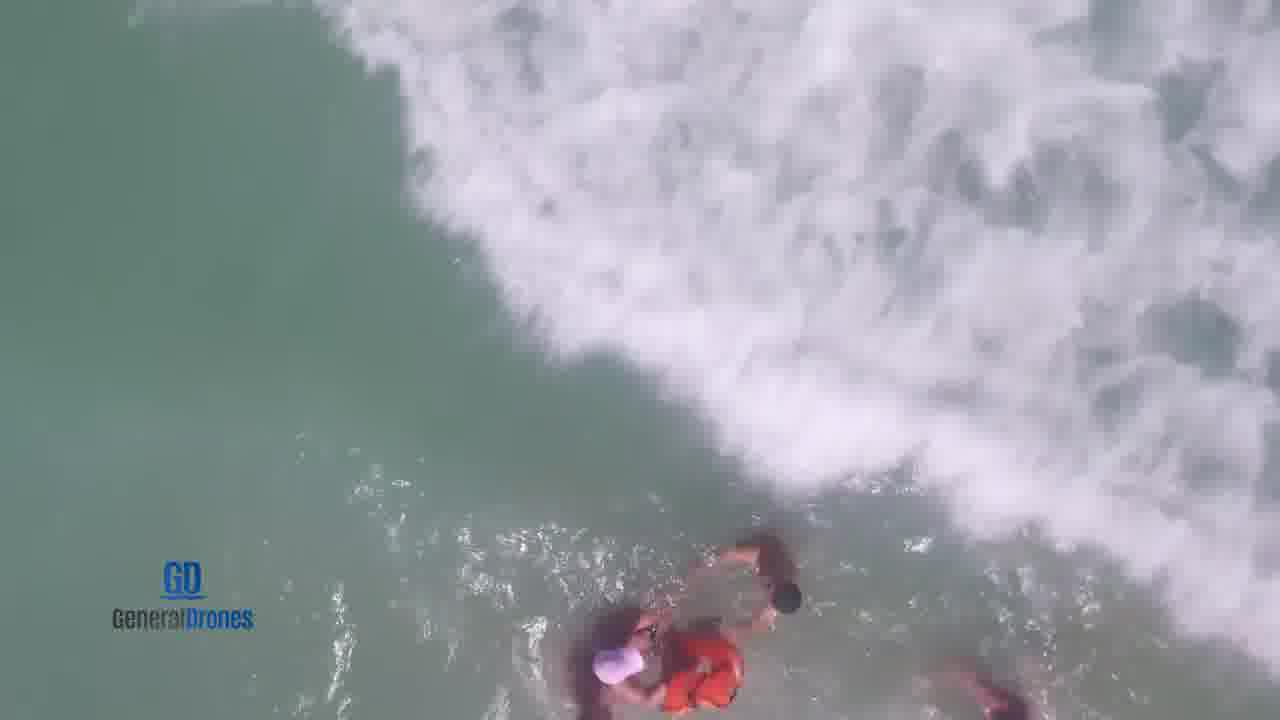swimmer: (551, 583, 678, 710), (686, 525, 823, 626), (935, 636, 1048, 720)
